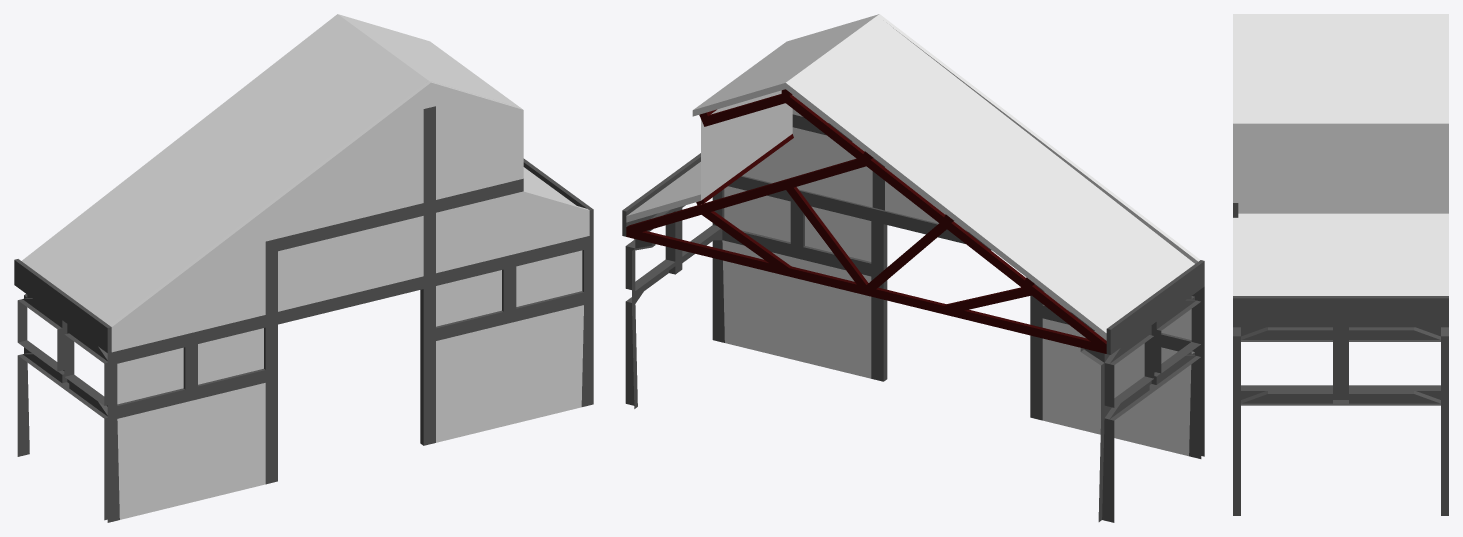
File: SM_Factory_H.fbx
3 views of the same model, side by side, from view 1: azimuth 30°, elevation 25°; view 2: azimuth 150°, elevation 25°; view 3: azimuth 270°, elevation 25° (orthographic). The views are drawn at different scales.
Parts seen in each view (by area): view 1: Factory_Frame_H, Factory_PillarsAndBeams_H; view 2: Factory_Frame_H, Factory_PillarsAndBeams_H; view 3: Factory_Frame_H, Factory_PillarsAndBeams_H.
Boxes of the visible parts, box(x1,y1,x2,y2) form: Factory_Frame_H: box(14, 14, 593, 353); Factory_PillarsAndBeams_H: box(17, 235, 593, 522); Factory_Frame_H: box(622, 14, 1204, 354); Factory_PillarsAndBeams_H: box(625, 175, 1204, 522); Factory_Frame_H: box(1233, 14, 1448, 327); Factory_PillarsAndBeams_H: box(1233, 327, 1448, 515).
Bounding box in the file's own units: 12 × 4 × 8.53.
